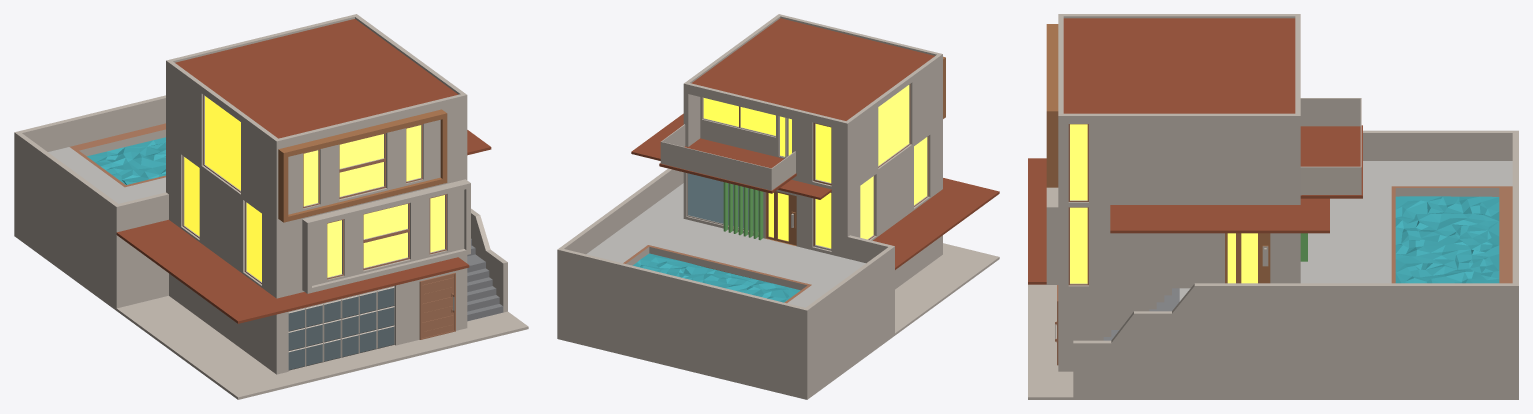
The model's file is SM_cottage_03.glb.
3 renders of one model, left to right at view 1: azimuth 30°, elevation 25°; view 2: azimuth 150°, elevation 25°; view 3: azimuth 270°, elevation 25°, orthographic. The views are drawn at different scales.
Parts seen in each view (by area): view 1: SM_cottage_03; view 2: SM_cottage_03; view 3: SM_cottage_03.
Boxes of the visible parts, box(x1,y1,x2,y2) form: SM_cottage_03: box(14, 14, 528, 399); SM_cottage_03: box(557, 14, 999, 399); SM_cottage_03: box(1028, 14, 1518, 399).
Bounding box in the file's own units: 6.6 × 5.11 × 8.8.
2 materials, 1 textured.
